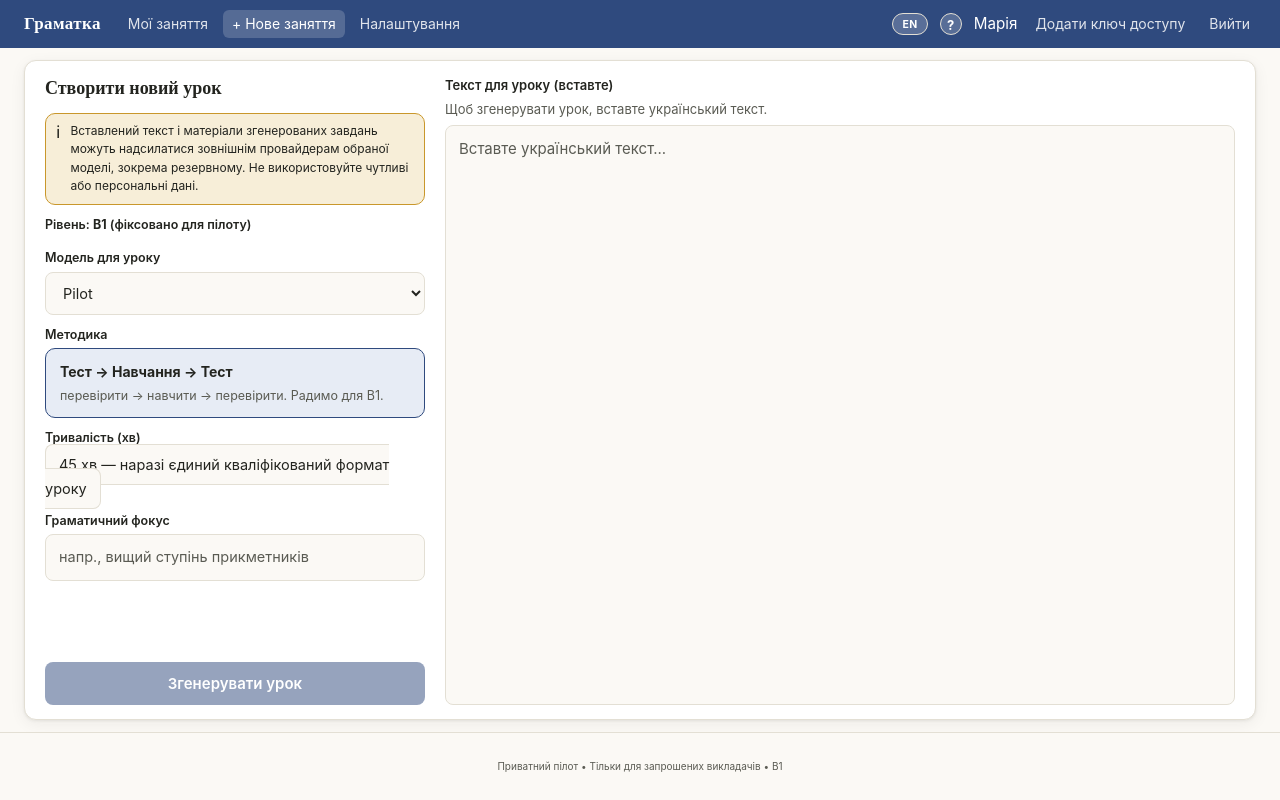
Test: teacher lesson creation and list chrome › renders My Lessons as a separate empty page with no delete affordance
Click the button "Мої заняття": (168, 24) x1=119 y1=10 x2=217 y2=38
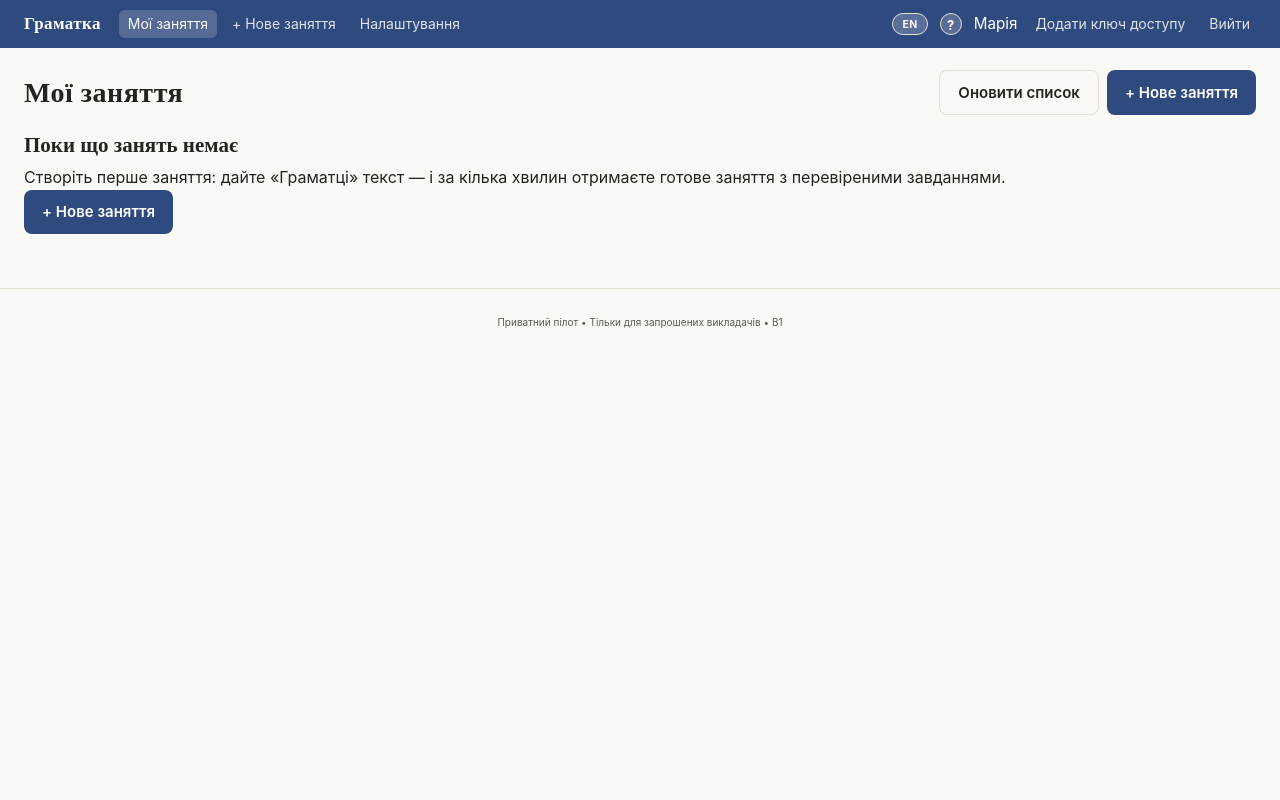
Result: the element with test id "lessons-empty-state" shows "Створіть перше заняття" at x1=24 y1=168 x2=1006 y2=188
